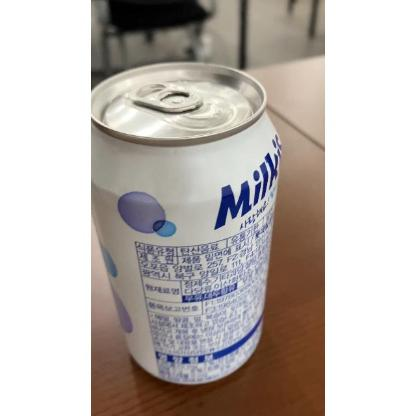Can: (94, 60, 282, 386)
